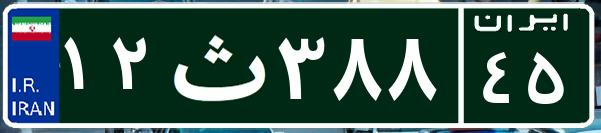1: (57, 26, 110, 107)
2: (110, 28, 158, 105)
3: (273, 28, 330, 110)
4: (475, 38, 525, 113)
5: (525, 38, 570, 115)
8: (385, 28, 445, 110), (330, 28, 385, 110)
ث: (158, 15, 273, 115)
